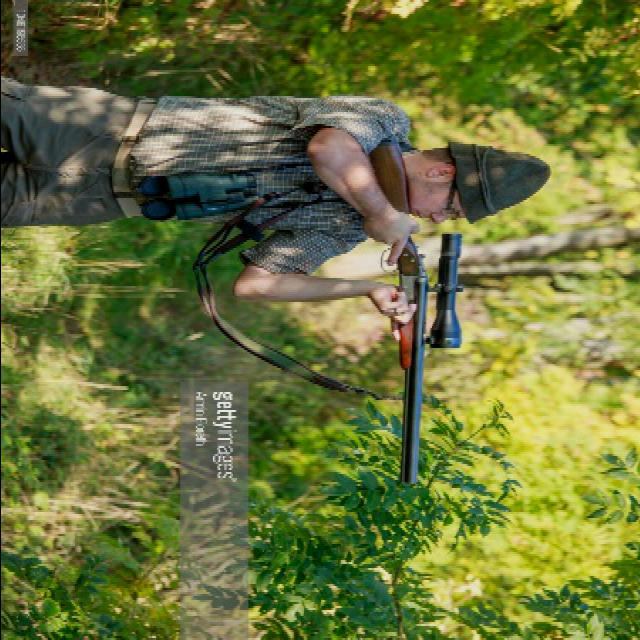long weapon: (358, 128, 466, 496)
